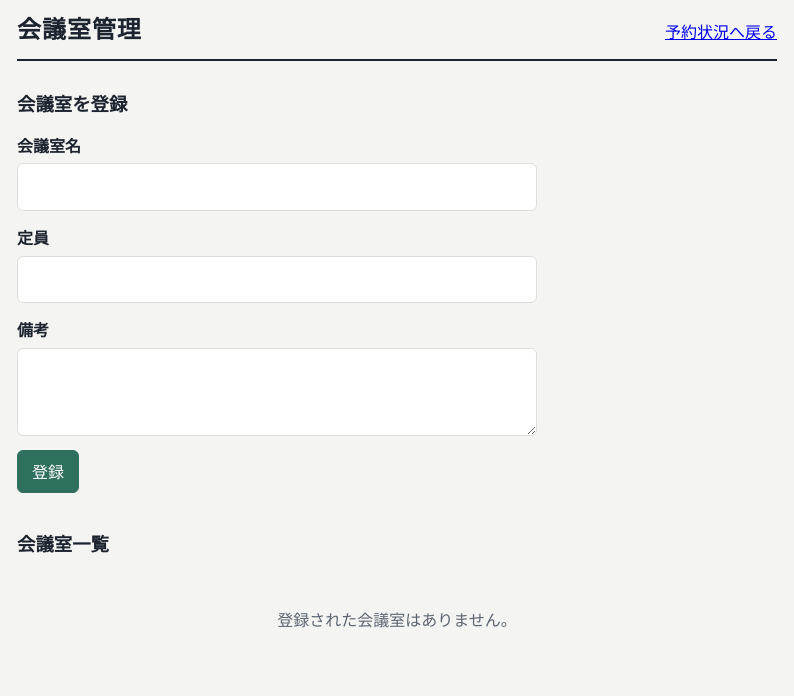
Scenario: RoomManagement › 会議室を登録・編集・削除して一覧を更新する
Type "A会議室" into the field labelled "会議室名" at point(277, 187), box [17,163,537,211]
Type "6" into the number field labelled "定員" at point(277, 279), box [17,256,537,303]
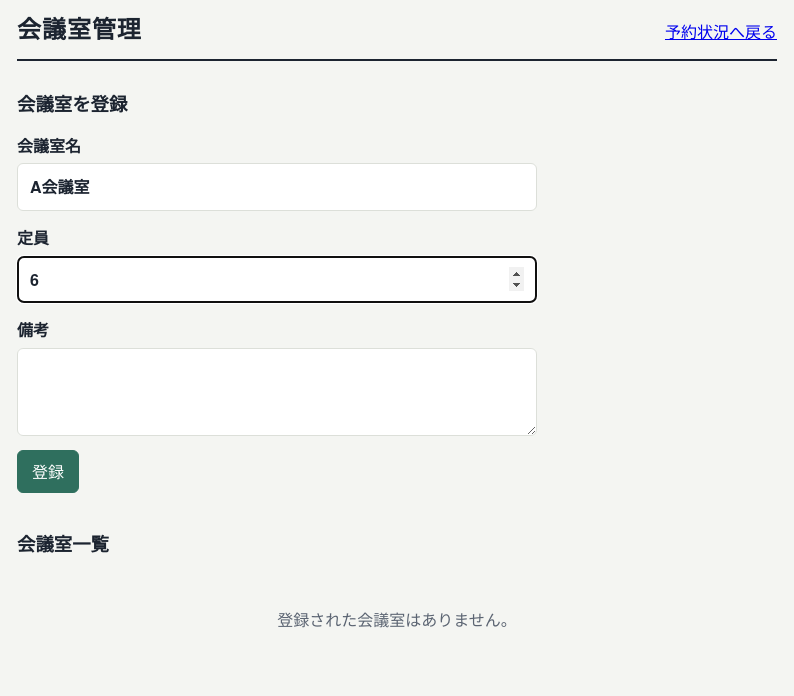
Type "モニタあり" into the text box labelled "備考" at point(277, 392), box [17,348,537,436]
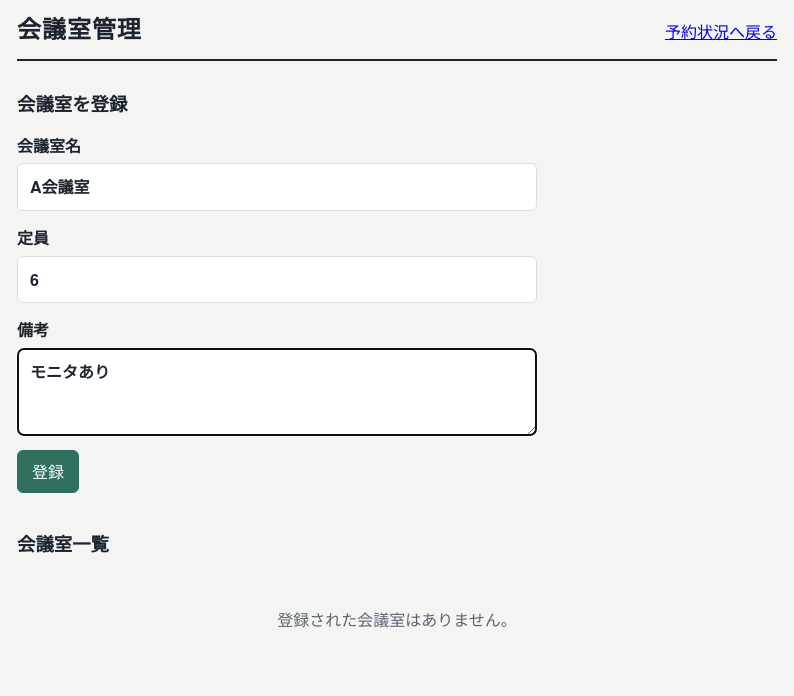
Click the button "登録" at point(48, 472), box [17,450,79,493]
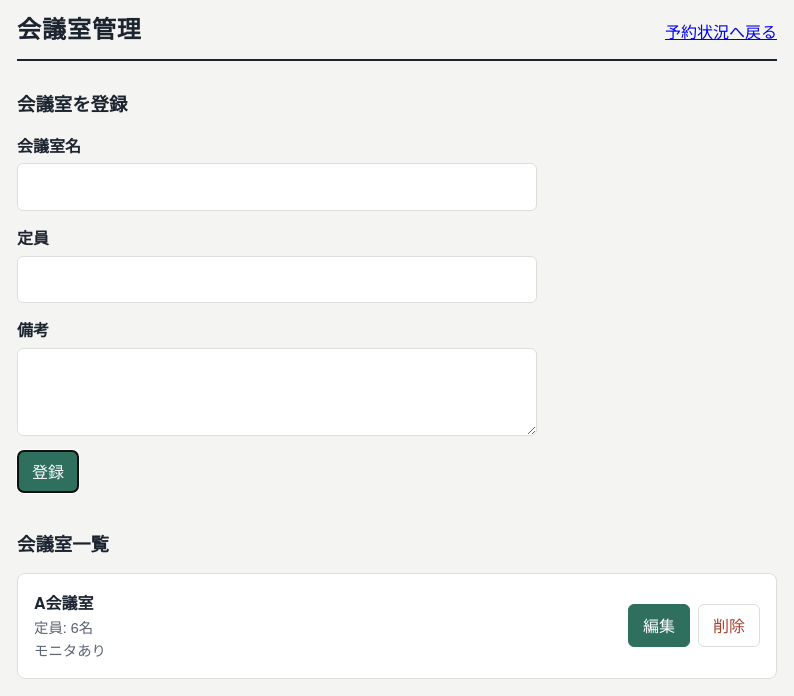
Now the heading "A会議室" is shown, box [34,591,94,614]
Click the button "編集" at point(659, 626), box [628,604,690,648]
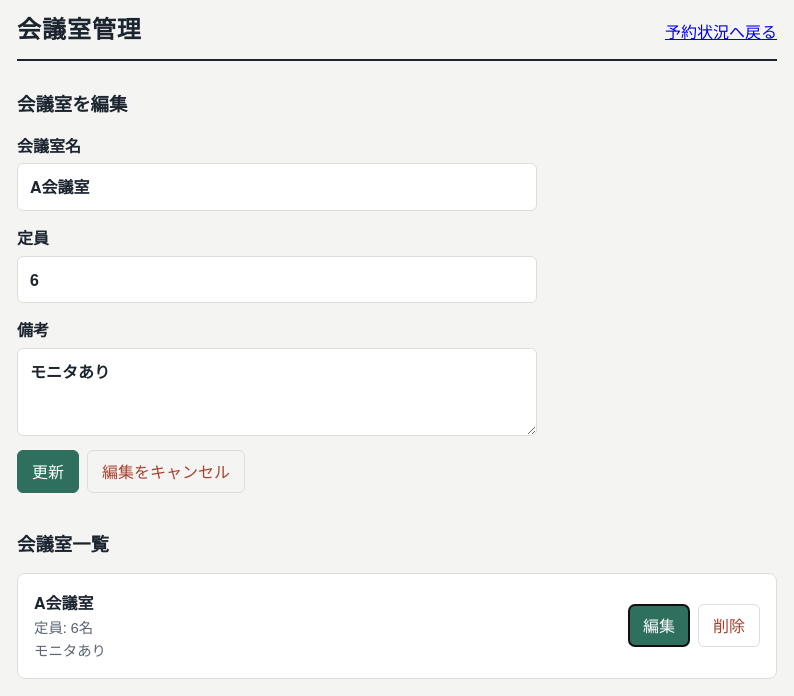
Replace the text in the field labelled "会議室名" with "大会議室" at point(277, 187), box [17,163,537,211]
Click the button "更新" at point(48, 472), box [17,450,79,493]
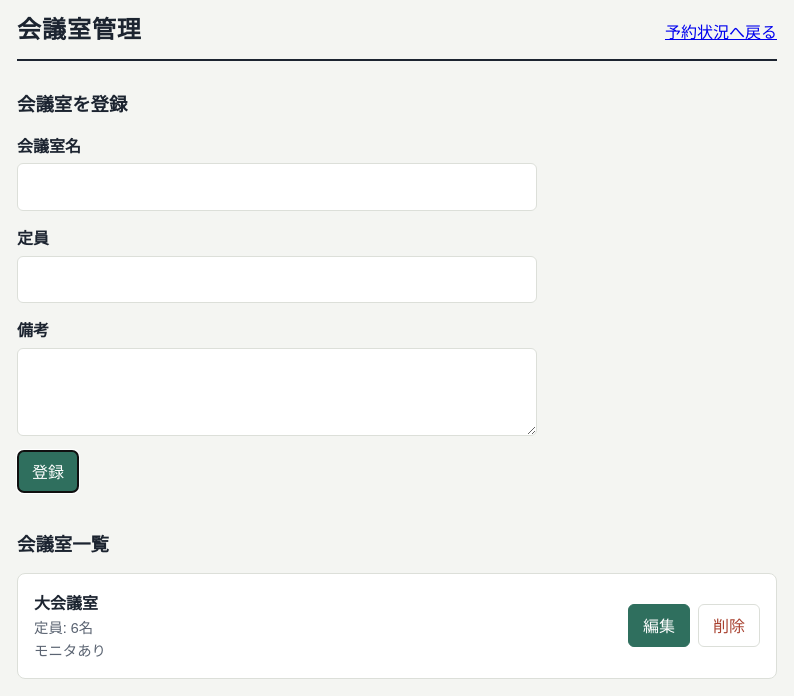
Now the heading "大会議室" is shown, box [34,590,106,615]
Click the button "削除" at point(729, 626), box [698,604,760,648]
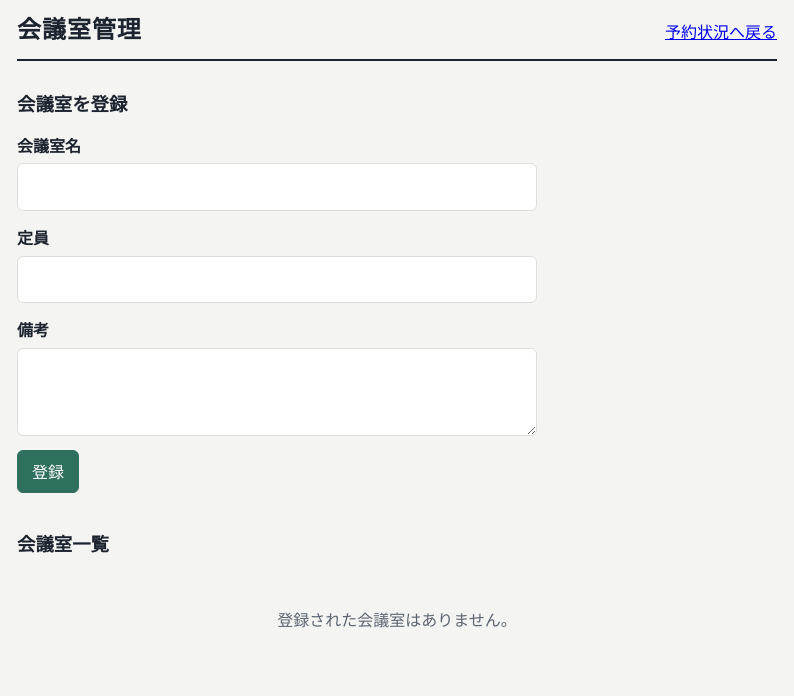
Now the text "登録された会議室はありません。" is shown, box [277,608,517,631]
